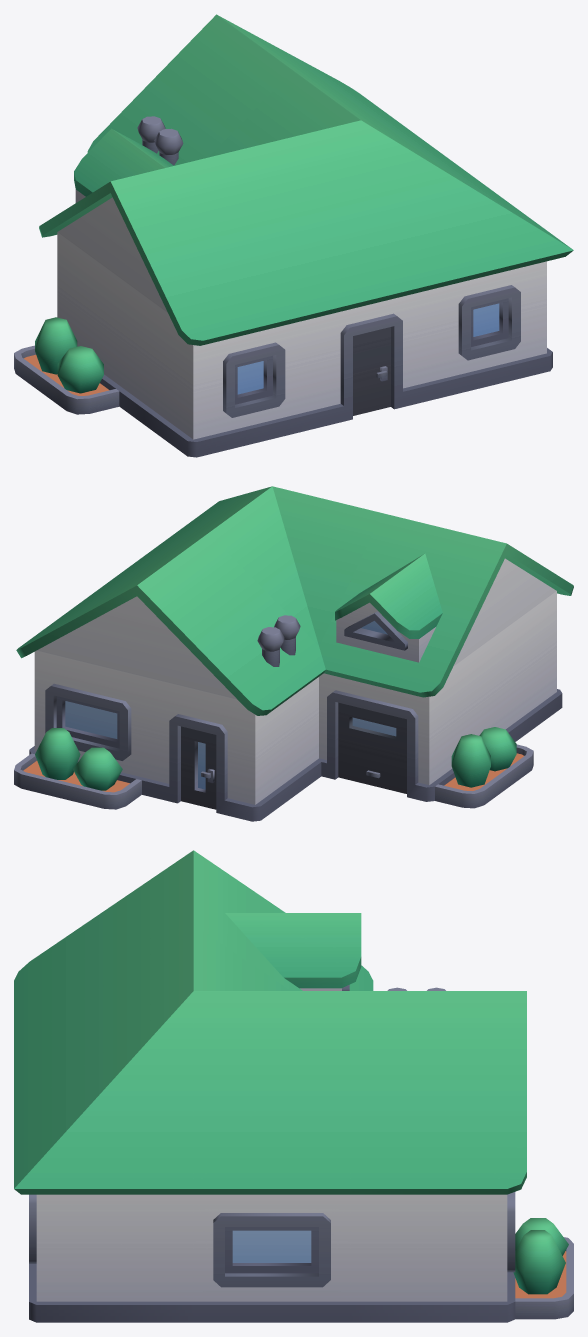
Rendered from suburban-building-type-m.glb.
The picture shows the model from 3 angles, top to bottom: view 1: azimuth 30°, elevation 25°; view 2: azimuth 150°, elevation 25°; view 3: azimuth 270°, elevation 25°; orthographic projection. The views are drawn at different scales.
Parts seen in each view (by area): view 1: building-type-m; view 2: building-type-m; view 3: building-type-m.
Boxes of the visible parts, x1,y1,x2,y2 form: building-type-m: (14, 14, 573, 457); building-type-m: (14, 486, 573, 821); building-type-m: (14, 850, 573, 1322).
Size of the model in its own units: 1.43 by 0.7375 by 1.43.
Materials: 1 (1 with a texture image).
